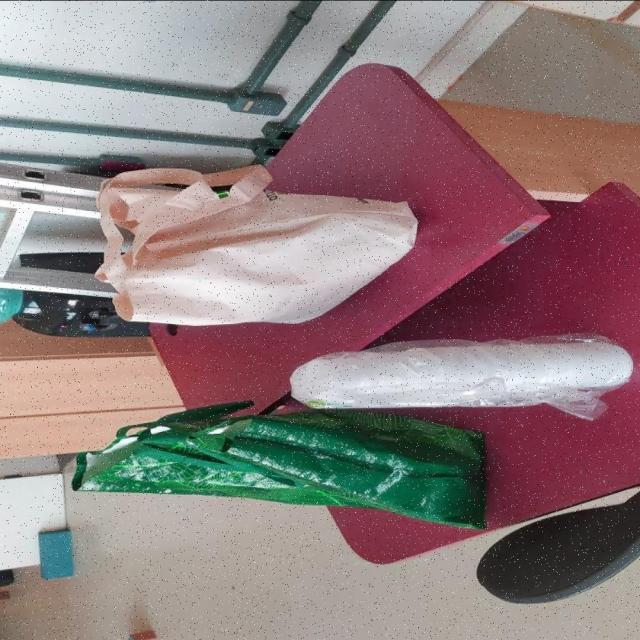Bag: (67, 399, 495, 531), (94, 164, 427, 326)
